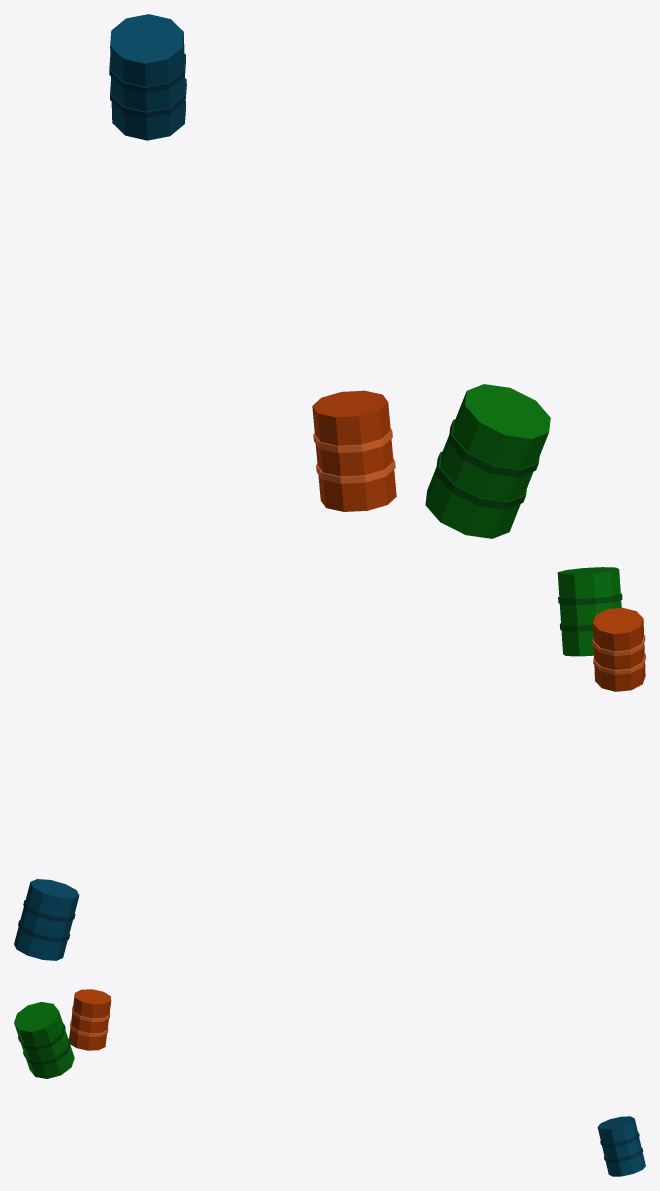
Rendered from barrels.gltf.
3 views of the same model, one above another, from view 1: azimuth 30°, elevation 25°; view 2: azimuth 150°, elevation 25°; view 3: azimuth 270°, elevation 25° (orthographic). The views are drawn at different scales.
Parts seen in each view (by area): view 1: Circle.004, Circle.003, Circle.001; view 2: Circle.004, Circle.003, Circle.001; view 3: Circle.004, Circle.001, Circle.003.
Part boxes in pixels (bbox=[...]): Circle.004: bbox=[425, 384, 550, 538]; Circle.003: bbox=[312, 390, 396, 511]; Circle.001: bbox=[109, 14, 186, 140]; Circle.004: bbox=[557, 567, 622, 656]; Circle.003: bbox=[592, 607, 645, 691]; Circle.001: bbox=[14, 879, 79, 960]; Circle.004: bbox=[14, 1002, 74, 1078]; Circle.001: bbox=[597, 1116, 645, 1176]; Circle.003: bbox=[69, 989, 111, 1050].
Size of the model in its own units: 2.35 by 1.22 by 6.45.
